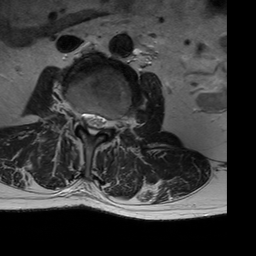CCS_normal: (90, 106, 98, 139)
LFS_normal: (106, 110, 113, 134)
LLS_normal: (98, 108, 106, 135)
RFS_normal: (74, 105, 82, 130)
RLS_normal: (82, 106, 90, 133)
